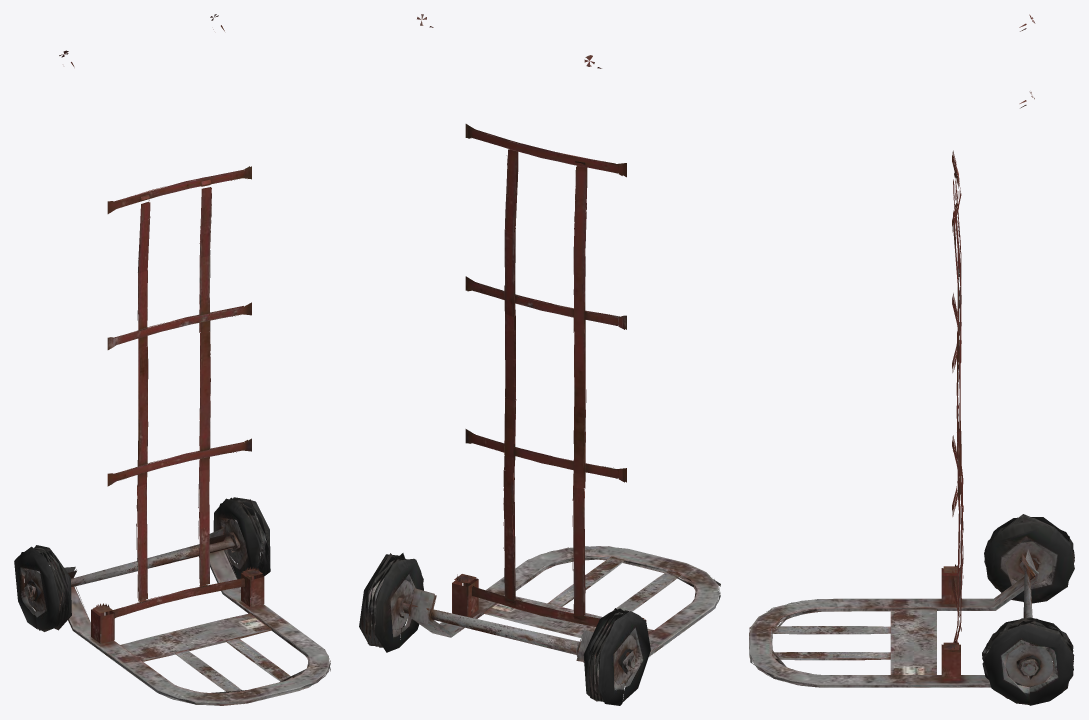
File: hand_truck.glb
3 views of the same model, side by side, from view 1: azimuth 30°, elevation 25°; view 2: azimuth 150°, elevation 25°; view 3: azimuth 270°, elevation 25° (orthographic). The views are drawn at different scales.
Parts seen in each view (by area): view 1: hand_truck; view 2: hand_truck; view 3: hand_truck.
Part boxes in pixels (x1,y1,x2,y2): hand_truck: (14,14,330,705); hand_truck: (359,14,720,705); hand_truck: (749,14,1074,705).
Bounding box in the file's own units: 0.5058 × 1.2 × 0.5911.
1 material, 1 textured.
